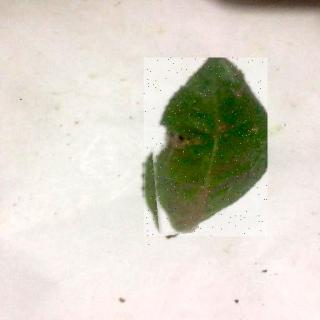Red Leaf Spot: (145, 59, 269, 238)
